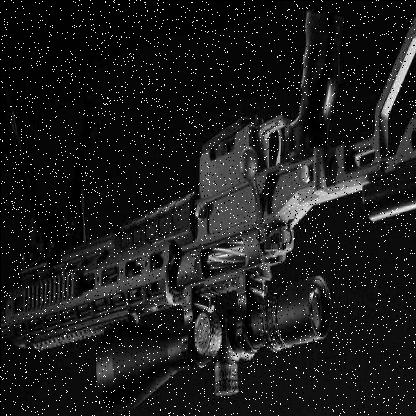rifle: (17, 1, 416, 408)
